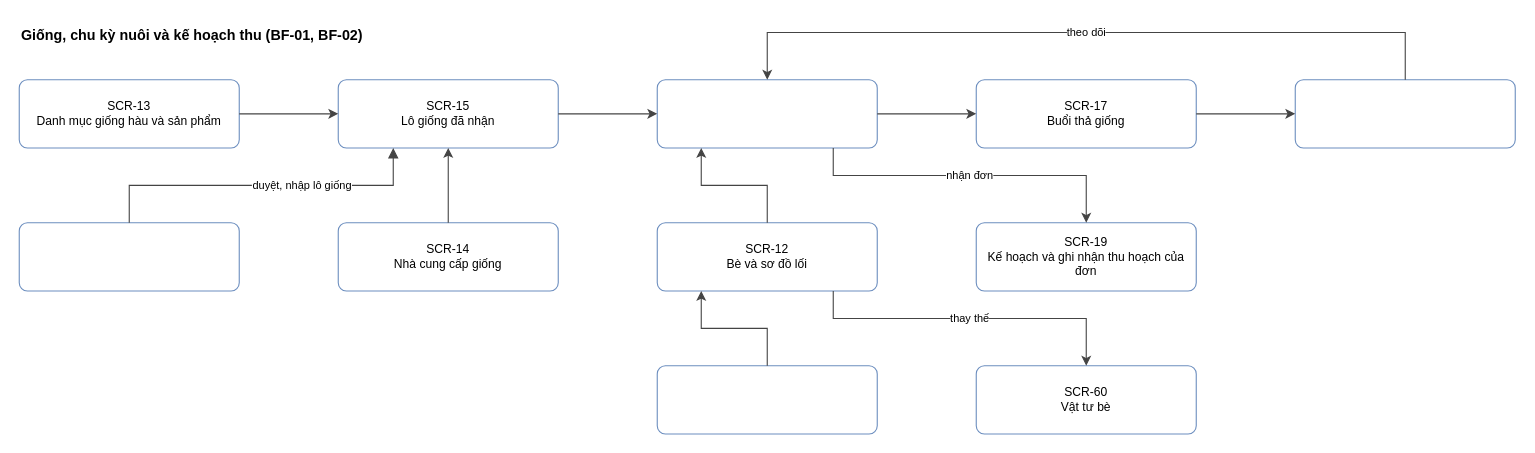
Image size: 1535x453. Some labels were removed from this diagram. The shapes that lost their labels are listed below. From the top down, each one's centre as x and y in pixels, then its label:
At (766,113): "SCR-16 Chu kỳ nuôi và tiến độ sơ đồ lối".
At (1404,113): "SCR-18 Nhật ký nuôi trồng và chỉ số nước".
At (128,256): "SCR-62 Đề xuất mua giống".
At (766,399): "SCR-11 Vùng nuôi và giấy tờ vùng nuôi".
